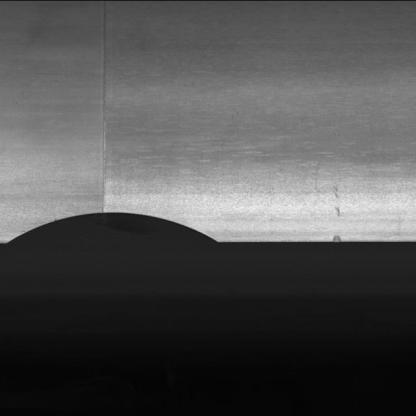crescent_gap: (0, 208, 231, 253)
welding_line: (79, 0, 112, 213)
